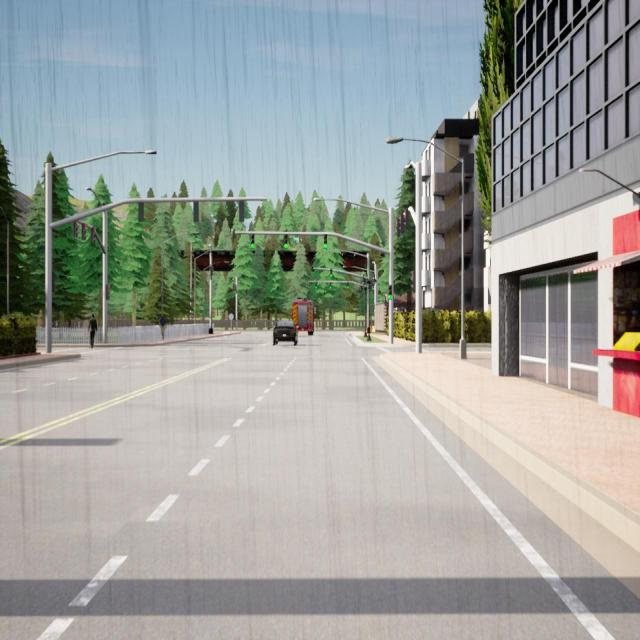Pedestrian: (88, 314, 97, 348), (160, 314, 166, 340)
Traffic_Signs: (229, 314, 233, 320)
Vehicle: (292, 301, 314, 334), (274, 320, 296, 346)
traffic_light: (239, 201, 244, 221), (194, 201, 198, 222), (139, 203, 143, 221), (284, 234, 288, 249), (82, 224, 86, 239), (91, 228, 95, 242), (106, 285, 110, 299), (397, 218, 400, 236), (401, 215, 404, 233), (406, 210, 409, 228), (388, 286, 392, 299), (324, 234, 327, 248), (251, 234, 254, 248), (74, 222, 77, 236), (330, 269, 332, 277), (329, 283, 332, 288), (233, 285, 236, 290), (210, 267, 212, 274), (347, 282, 349, 288), (315, 282, 317, 288)
